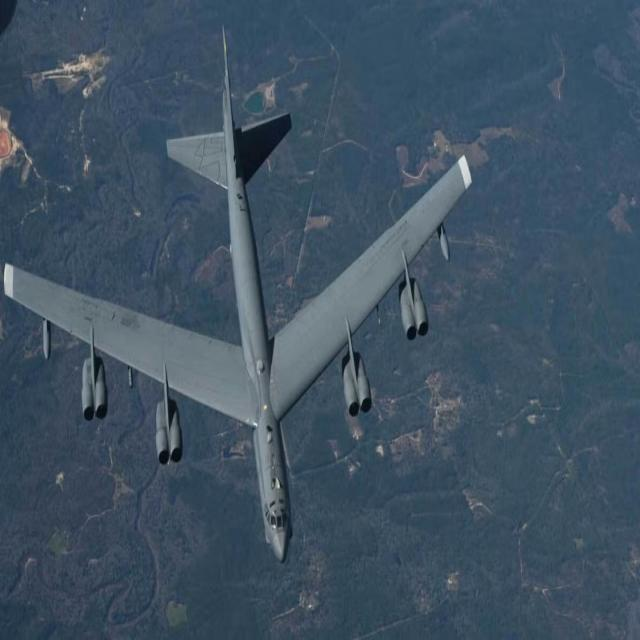B52: (0, 22, 492, 590)
